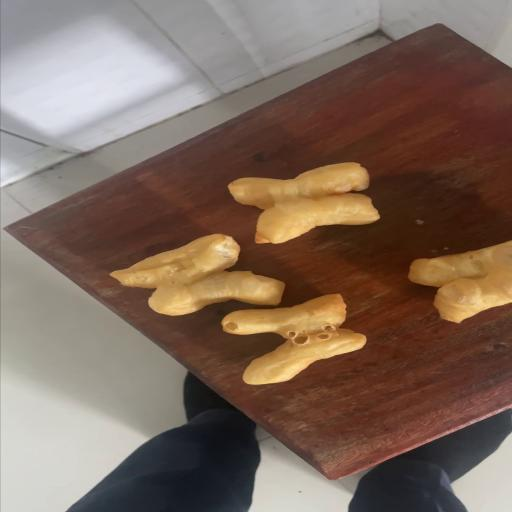street_golden_defect: (110, 234, 284, 316), (221, 294, 366, 385), (0, 266, 191, 272)
street_golden_good: (229, 178, 379, 243), (409, 244, 512, 322)
